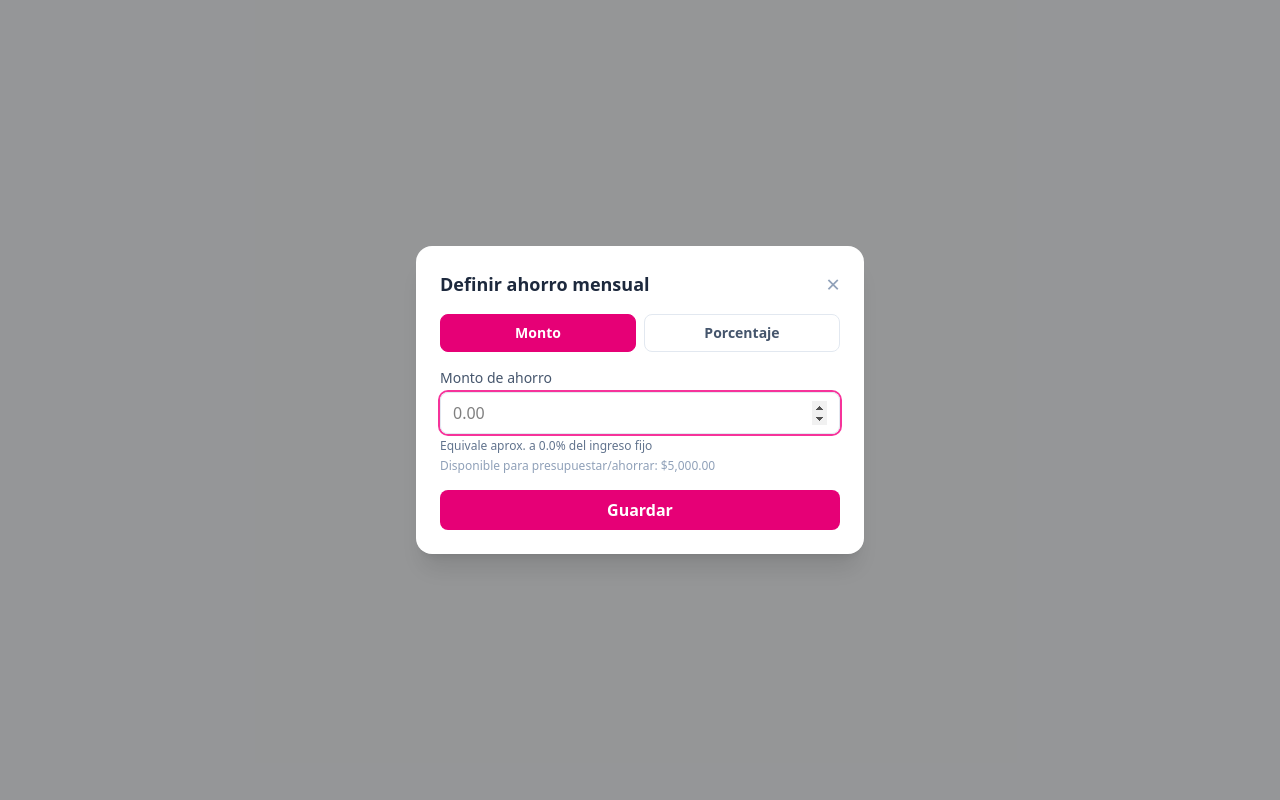
ModalAhorro › rechaza un porcentaje mayor a 100
Click the button "Porcentaje" at [742, 333], box [644,314,840,352]
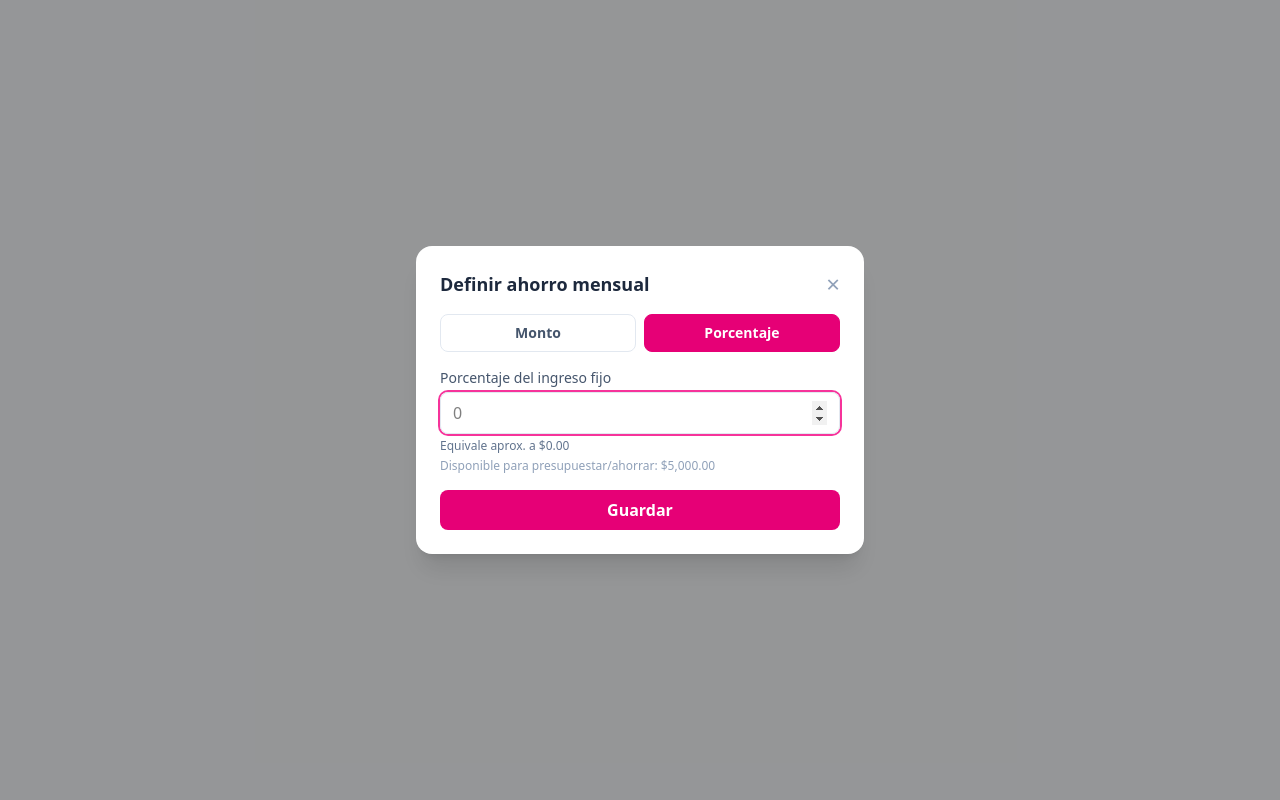
Type "150" into the number field with placeholder "0" at [640, 413], box [440,392,840,434]
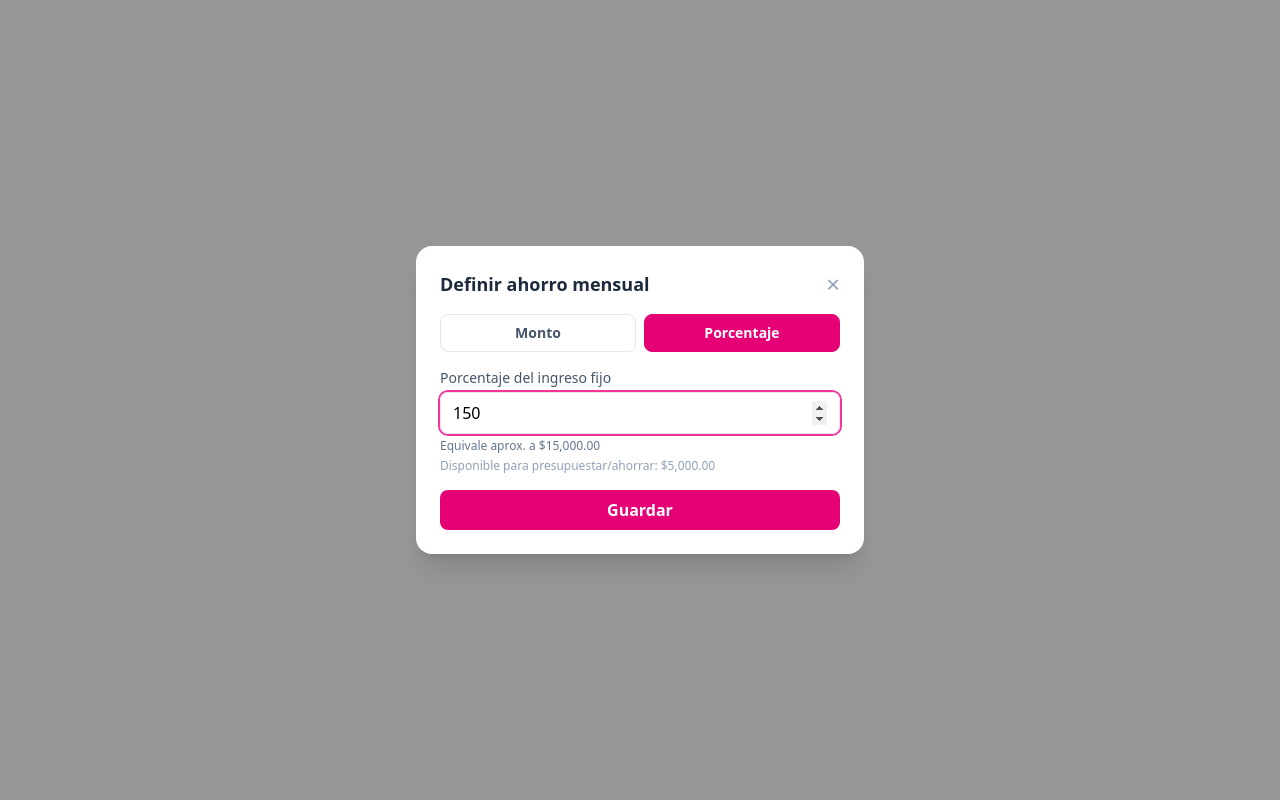
Click the button "Guardar" at [640, 510], box [440,490,840,530]
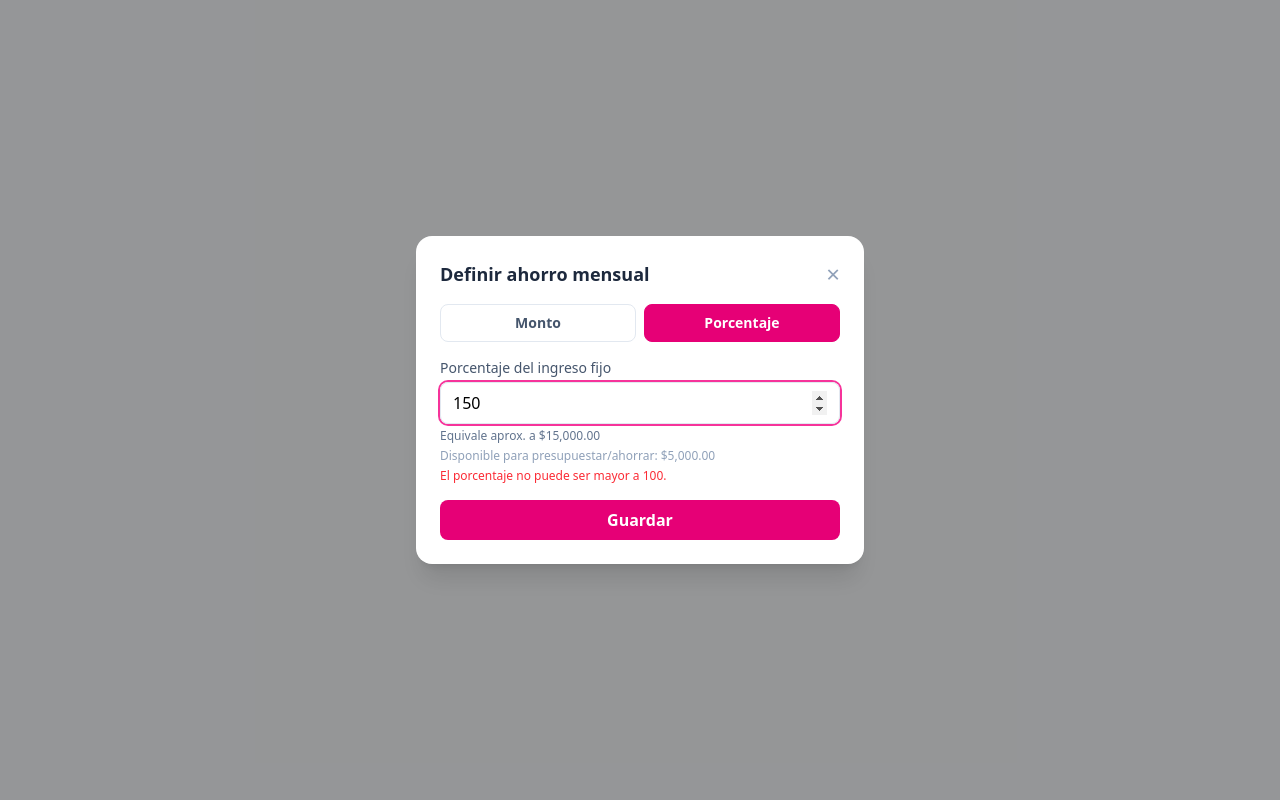
Expected: the text "El porcentaje no puede ser mayor a 100." is shown, [440,467,666,484]
